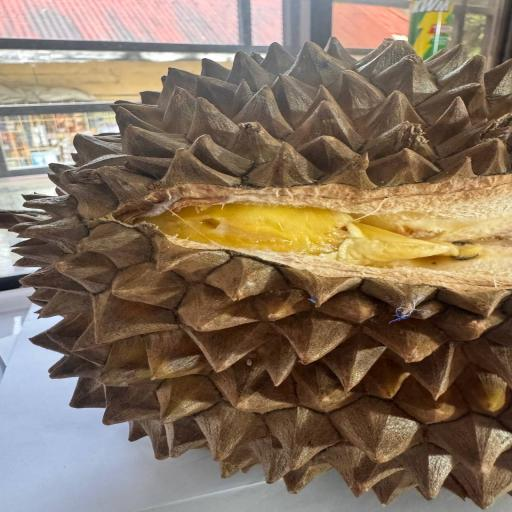rot: (6, 0, 512, 512)
